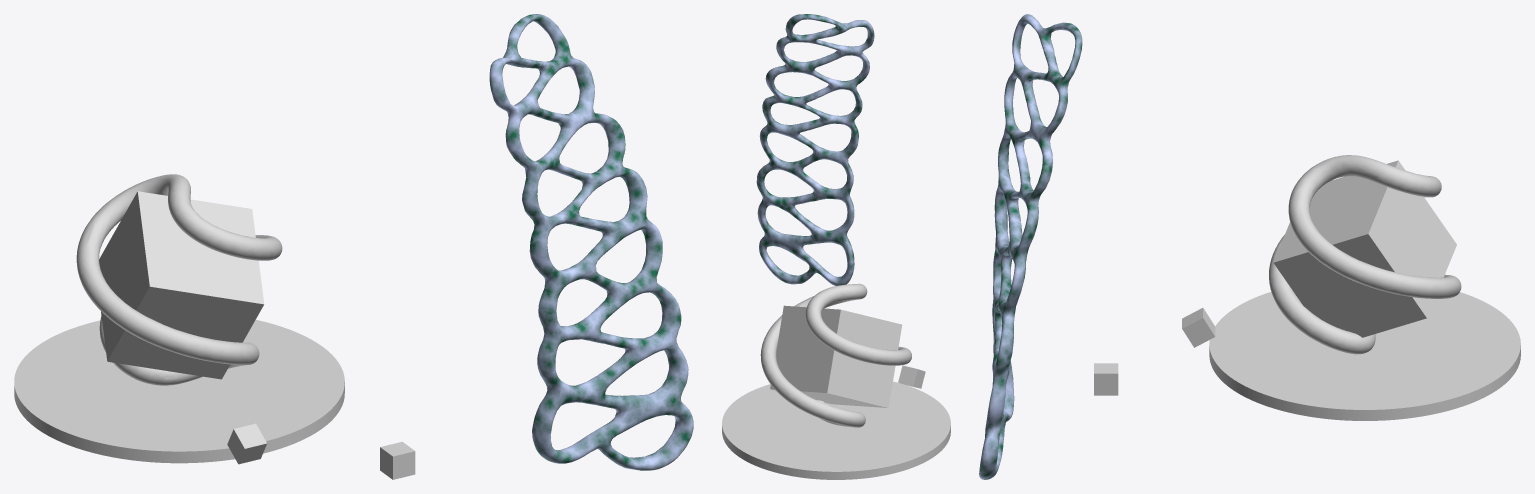
File: SLS_201206_cables_szene.glb
3 renders of one model, left to right at view 1: azimuth 30°, elevation 25°; view 2: azimuth 150°, elevation 25°; view 3: azimuth 270°, elevation 25°, orthographic. The views are drawn at different scales.
Visible parts, largest first — view 1: default, Cylinder, Cube_2, Sweep, Cube, Cube_1; view 2: Cylinder, default, Cube_2, Sweep, Cube; view 3: Cylinder, Cube_2, default, Sweep, Cube, Cube_1.
Boxes of the visible parts, bbox=[...] form: default: bbox=[489, 14, 693, 470]; Cylinder: bbox=[14, 320, 344, 463]; Cube_2: bbox=[99, 191, 264, 379]; Sweep: bbox=[76, 174, 282, 385]; Cube: bbox=[227, 423, 266, 464]; Cube_1: bbox=[380, 441, 415, 479]; Cylinder: bbox=[722, 381, 950, 479]; default: bbox=[756, 14, 874, 285]; Cube_2: bbox=[770, 305, 902, 407]; Sweep: bbox=[760, 283, 911, 427]; Cube: bbox=[898, 365, 925, 388]; Cylinder: bbox=[1209, 292, 1520, 420]; Cube_2: bbox=[1273, 160, 1456, 337]; default: bbox=[979, 14, 1082, 479]; Sweep: bbox=[1269, 155, 1461, 354]; Cube: bbox=[1182, 308, 1215, 347]; Cube_1: bbox=[1094, 363, 1118, 395].
Size of the model in its own units: 10.17 by 9.45 by 11.13.
Materials: 1 (1 with a texture image).
